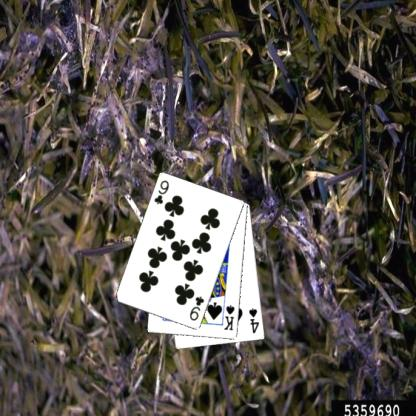4S: (246, 306, 261, 335)
9C: (186, 294, 206, 322), (152, 178, 170, 206)
KS: (221, 302, 236, 332)
